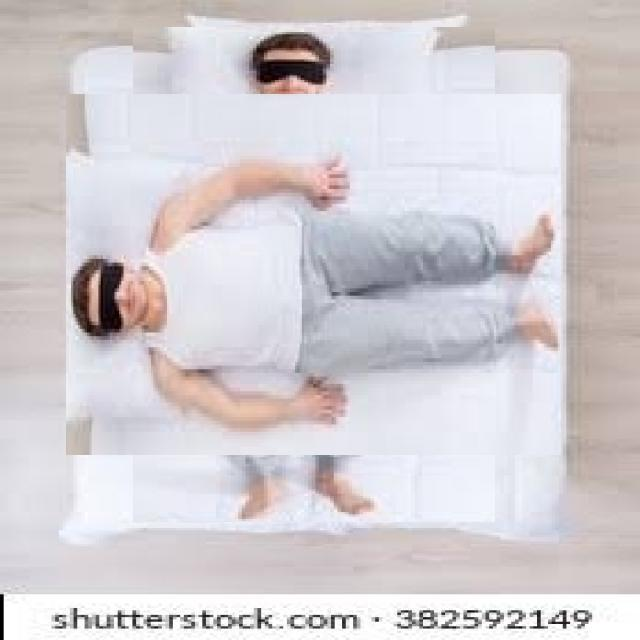Fall: (0, 148, 578, 448)
